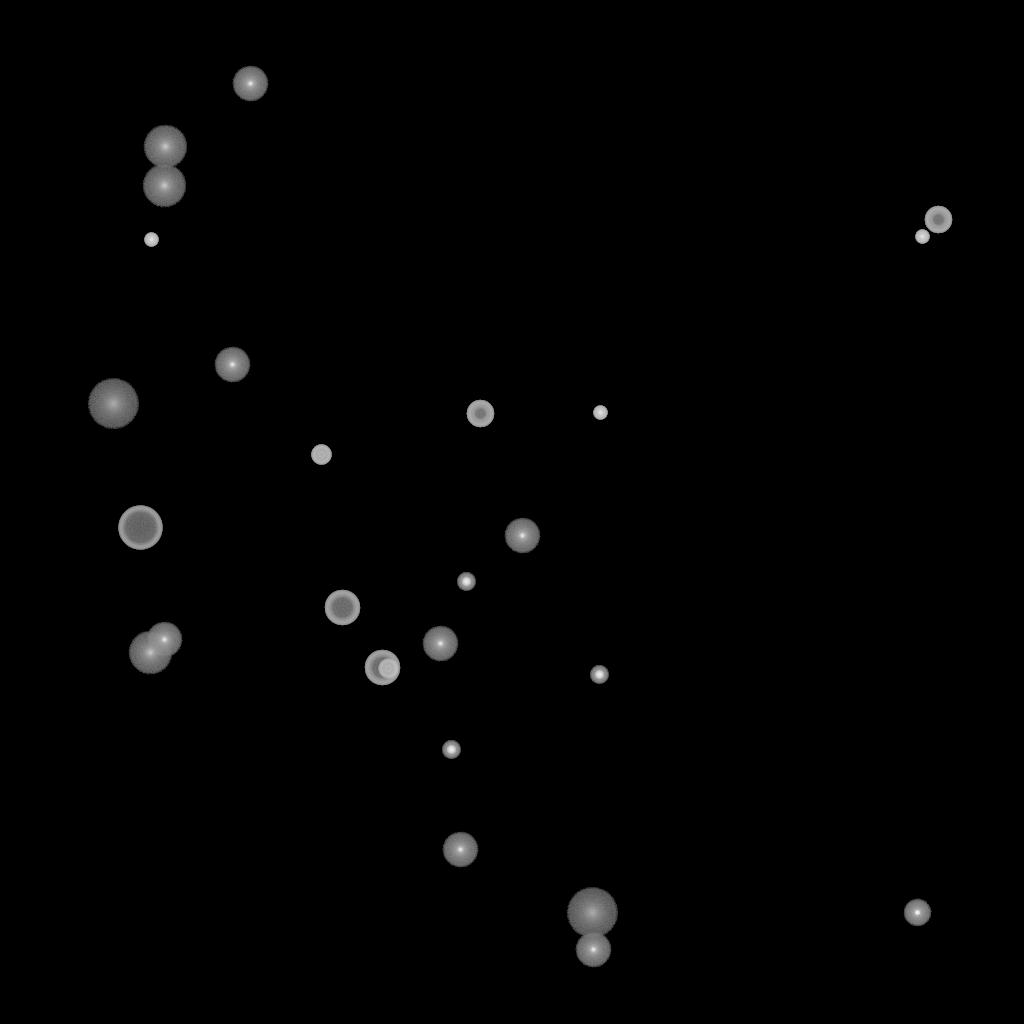depth:-10: (903, 899, 931, 927)
depth:-20: (457, 573, 475, 591), (590, 666, 608, 684), (442, 741, 460, 759)
depth:-30: (144, 233, 158, 247), (915, 230, 929, 244), (593, 406, 607, 420)
depth:-40: (311, 445, 331, 465), (378, 659, 398, 679)
depth:-50: (924, 206, 952, 234), (466, 400, 494, 428)
depth:-60: (324, 590, 360, 626), (364, 650, 400, 686)
depth:-70: (118, 506, 162, 550)
depth:0: (575, 932, 611, 968), (422, 626, 458, 662), (504, 518, 540, 554), (232, 66, 268, 102), (214, 347, 250, 383), (442, 832, 478, 868), (146, 622, 182, 658)
depth:10: (142, 164, 186, 208), (128, 631, 172, 675), (143, 125, 187, 169)
depth:20: (87, 379, 139, 429), (566, 888, 618, 938)
